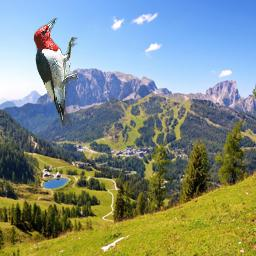Woodpecker: (33, 18, 78, 126)
